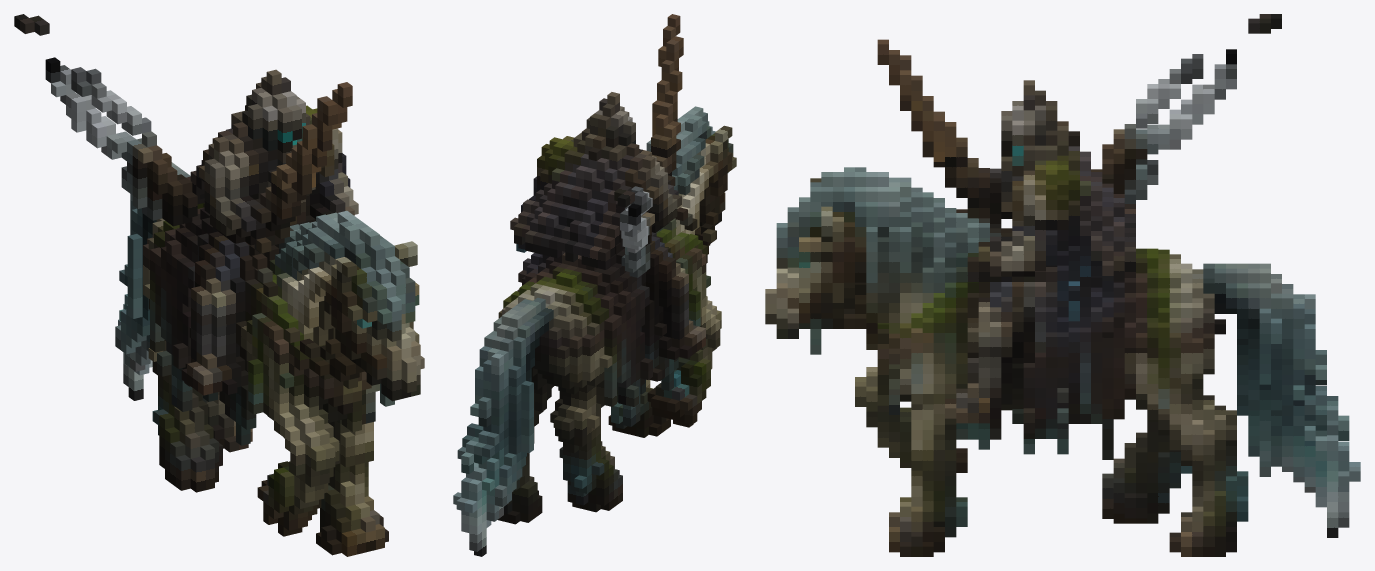
The model's file is u_cavalier.glb.
3 views of the same model, side by side, from view 1: azimuth 30°, elevation 25°; view 2: azimuth 150°, elevation 25°; view 3: azimuth 270°, elevation 25° (orthographic). The views are drawn at different scales.
Visible parts, largest first — view 1: cavalier_body; view 2: cavalier_body; view 3: cavalier_body.
Part boxes in pixels (x1,y1,x2,y2): cavalier_body: (14, 14, 424, 556); cavalier_body: (453, 14, 736, 556); cavalier_body: (765, 14, 1360, 556).
Bounding box in the file's own units: 0.925 × 1.85 × 2.04.
Materials: 1 (1 with a texture image).
